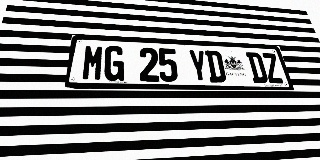2: (139, 47, 159, 82)
5: (158, 48, 179, 82)
D: (245, 52, 269, 83), (205, 50, 227, 83)
G: (103, 46, 124, 81)
M: (81, 45, 105, 81)
Y: (188, 49, 209, 82)
Z: (261, 53, 285, 83)
